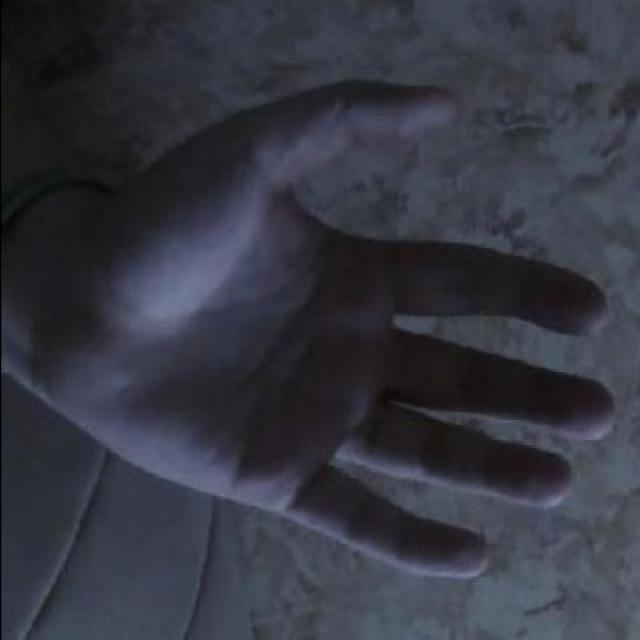Open Hand: (0, 76, 617, 588)
